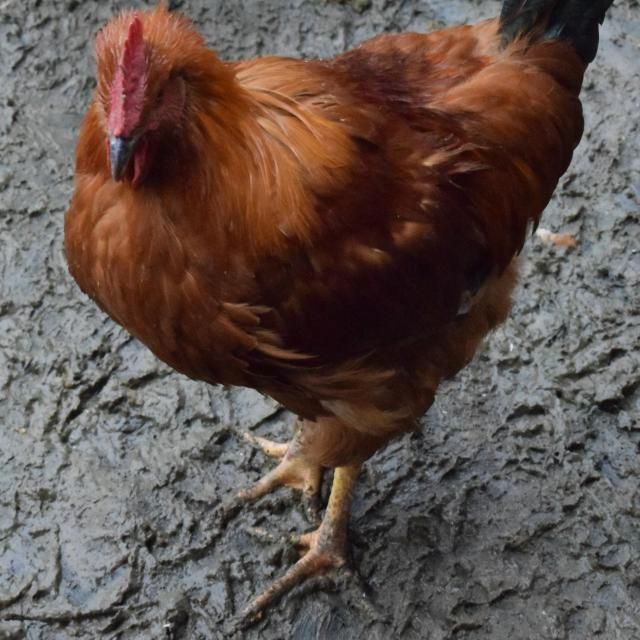cook: (65, 1, 610, 624)
